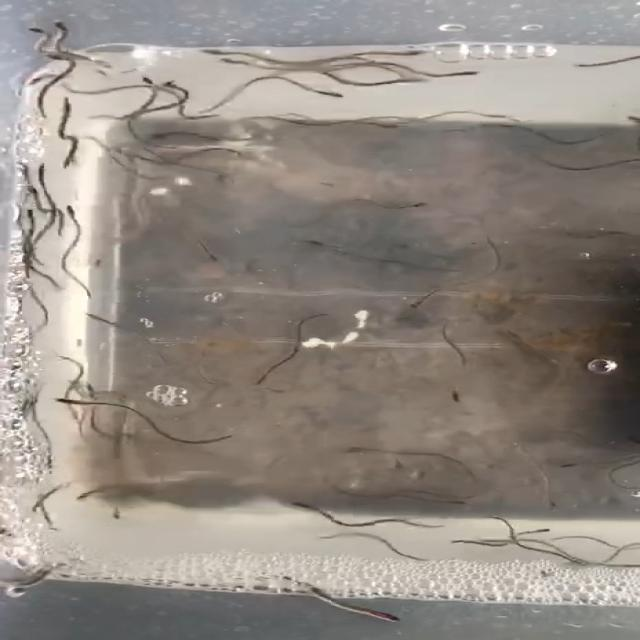inactive_glass_eel: (161, 230, 225, 262), (0, 565, 57, 599), (350, 112, 401, 142), (434, 381, 474, 414), (349, 606, 411, 627), (436, 61, 489, 85), (538, 456, 593, 478), (111, 67, 162, 89), (82, 246, 119, 275), (289, 82, 348, 100), (377, 193, 443, 209), (15, 24, 57, 49), (336, 439, 372, 466), (291, 232, 335, 254), (515, 521, 562, 541), (285, 489, 322, 514), (378, 72, 426, 91), (43, 8, 77, 34), (53, 195, 85, 220), (221, 54, 255, 77), (237, 366, 275, 386), (140, 127, 178, 145), (51, 392, 88, 410), (15, 173, 39, 200), (386, 46, 429, 61), (32, 158, 56, 184), (191, 47, 235, 60), (158, 79, 194, 94), (16, 202, 38, 226), (405, 291, 430, 311), (24, 73, 50, 89), (51, 351, 69, 366)
